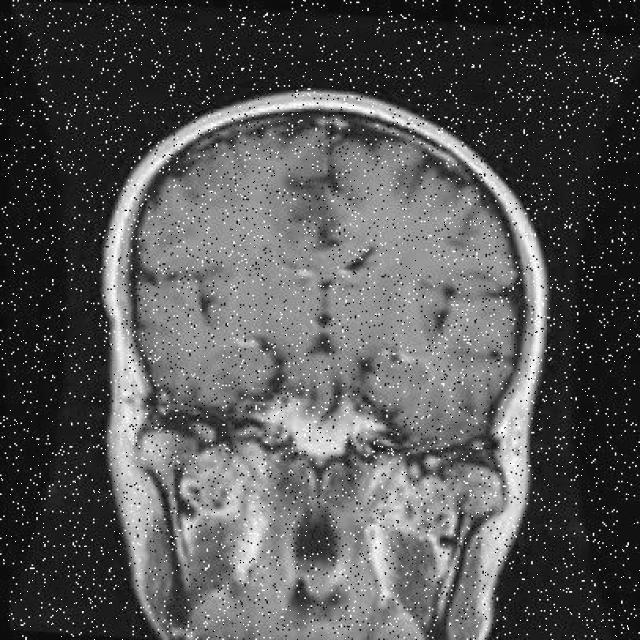EMCI: (248, 155, 348, 261)
